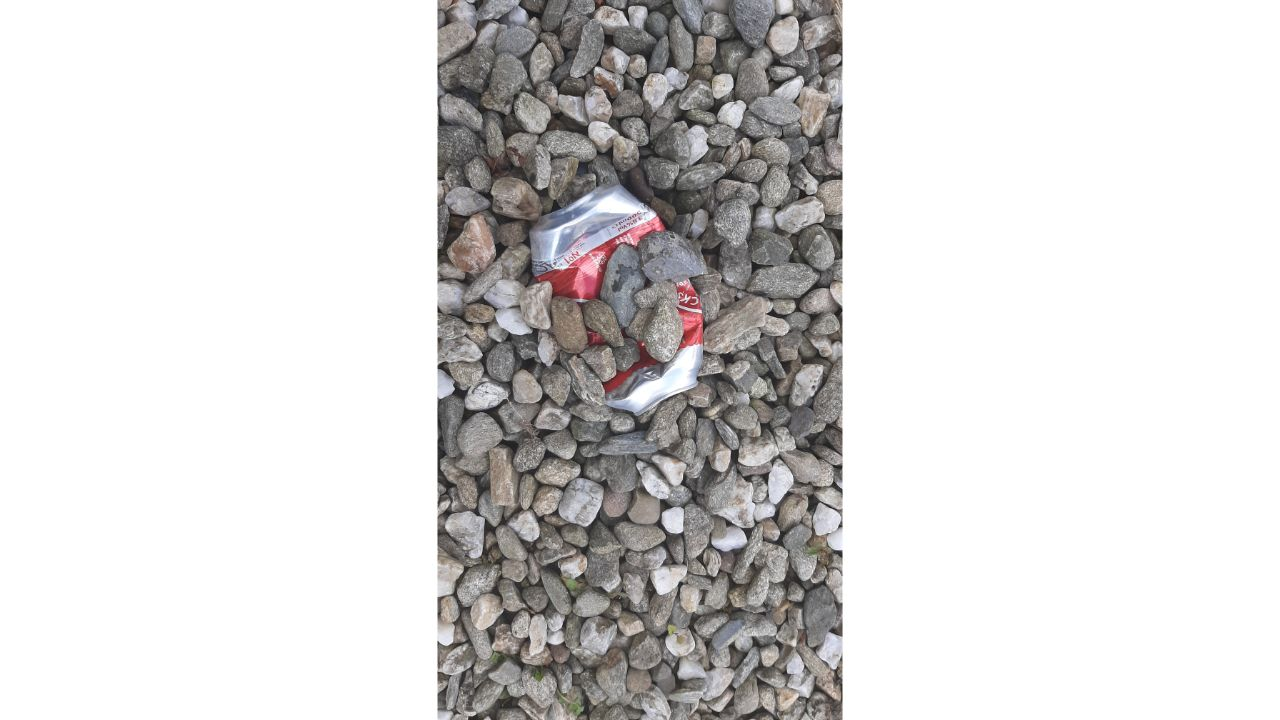Can: (514, 169, 717, 430)
